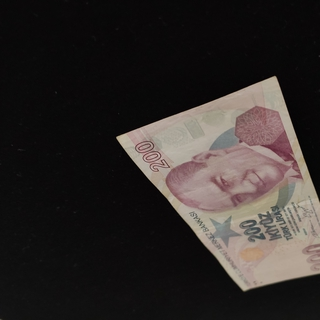200TLFront: (116, 75, 320, 292)
